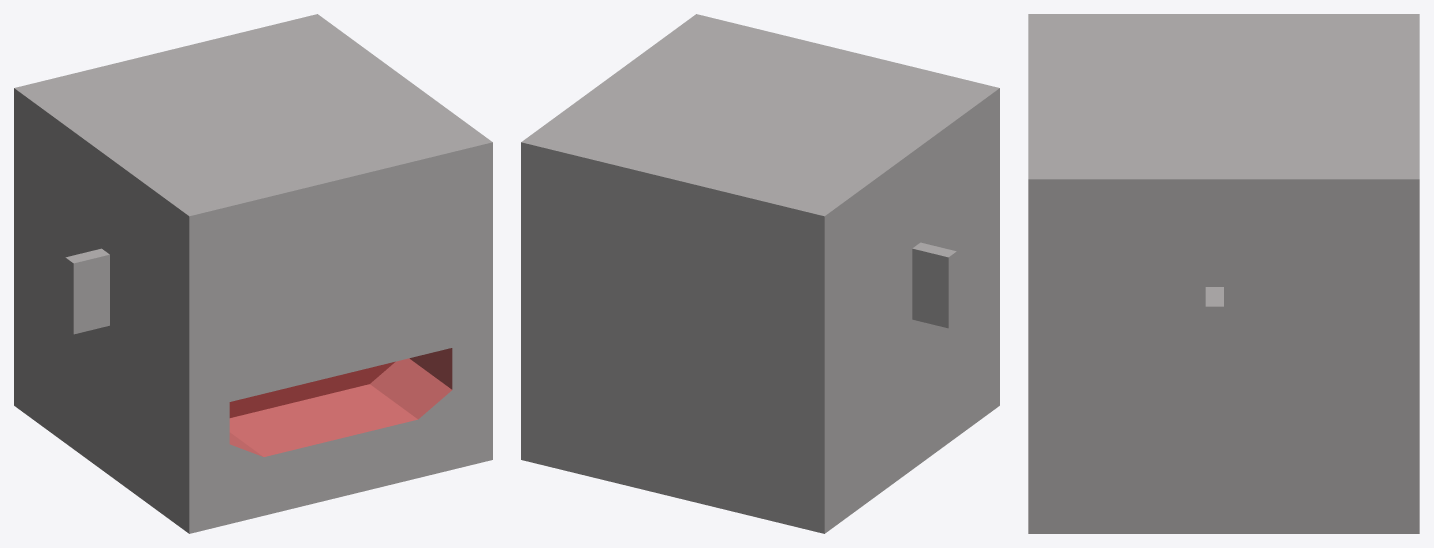
Rendered from floating_head_v2.fbx.
3 views of the same model, side by side, from view 1: azimuth 30°, elevation 25°; view 2: azimuth 150°, elevation 25°; view 3: azimuth 270°, elevation 25° (orthographic). The views are drawn at different scales.
Visible parts, largest first — view 1: pCube2, pCube13; view 2: pCube2, pCube13; view 3: pCube2, pCube14.
Boxes of the visible parts, x1=… form: pCube2: x1=14, y1=14, x2=492, y2=533; pCube13: x1=65, y1=248, x2=109, y2=334; pCube2: x1=521, y1=14, x2=999, y2=533; pCube13: x1=912, y1=242, x2=956, y2=328; pCube2: x1=1028, y1=14, x2=1419, y2=533; pCube14: x1=1205, y1=287, x2=1223, y2=385.
Size of the model in its own units: 1.24 by 1 by 1.
Materials: 1 (1 with a texture image).
